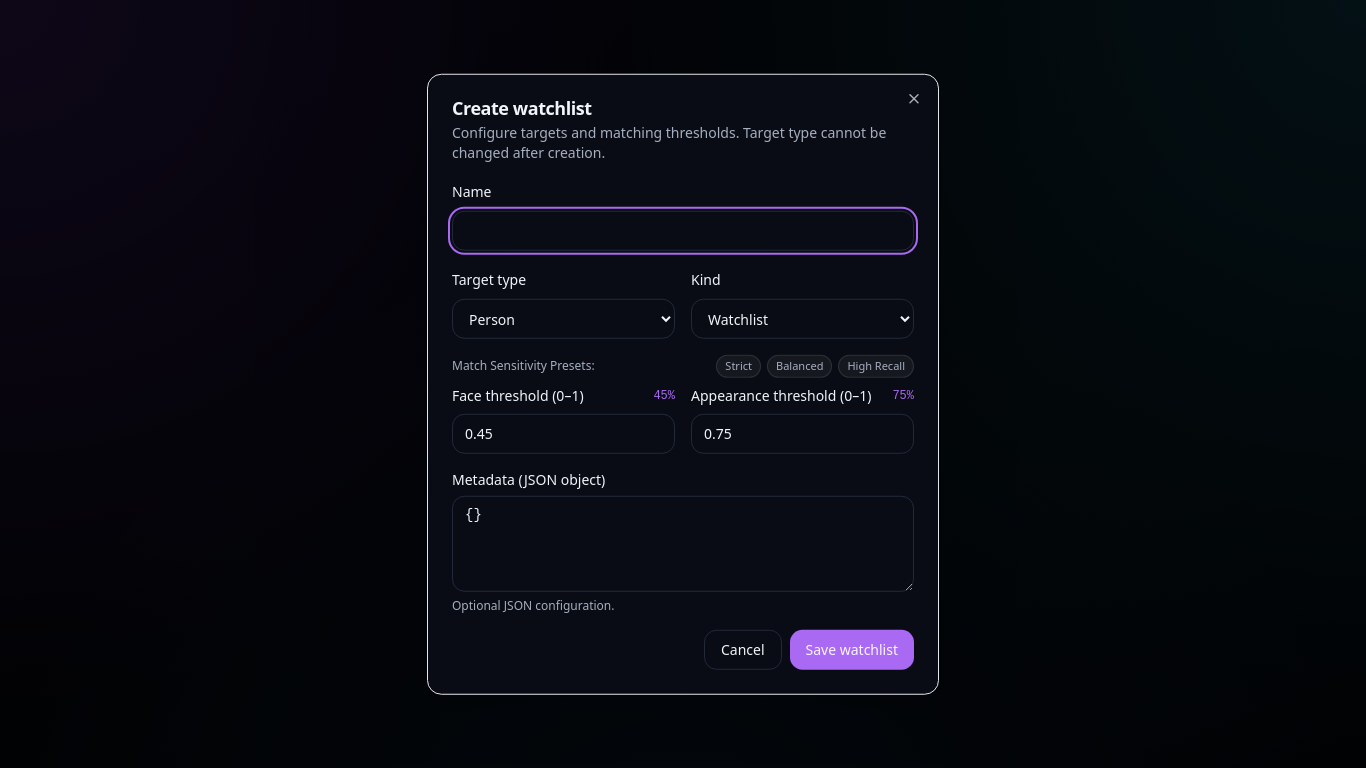
Test: watchlist form validation › rejects invalid Metadata (JSON object) without a write
Type "Staff" into the field labelled "Name" at point(683, 231), box [452,211,914,251]
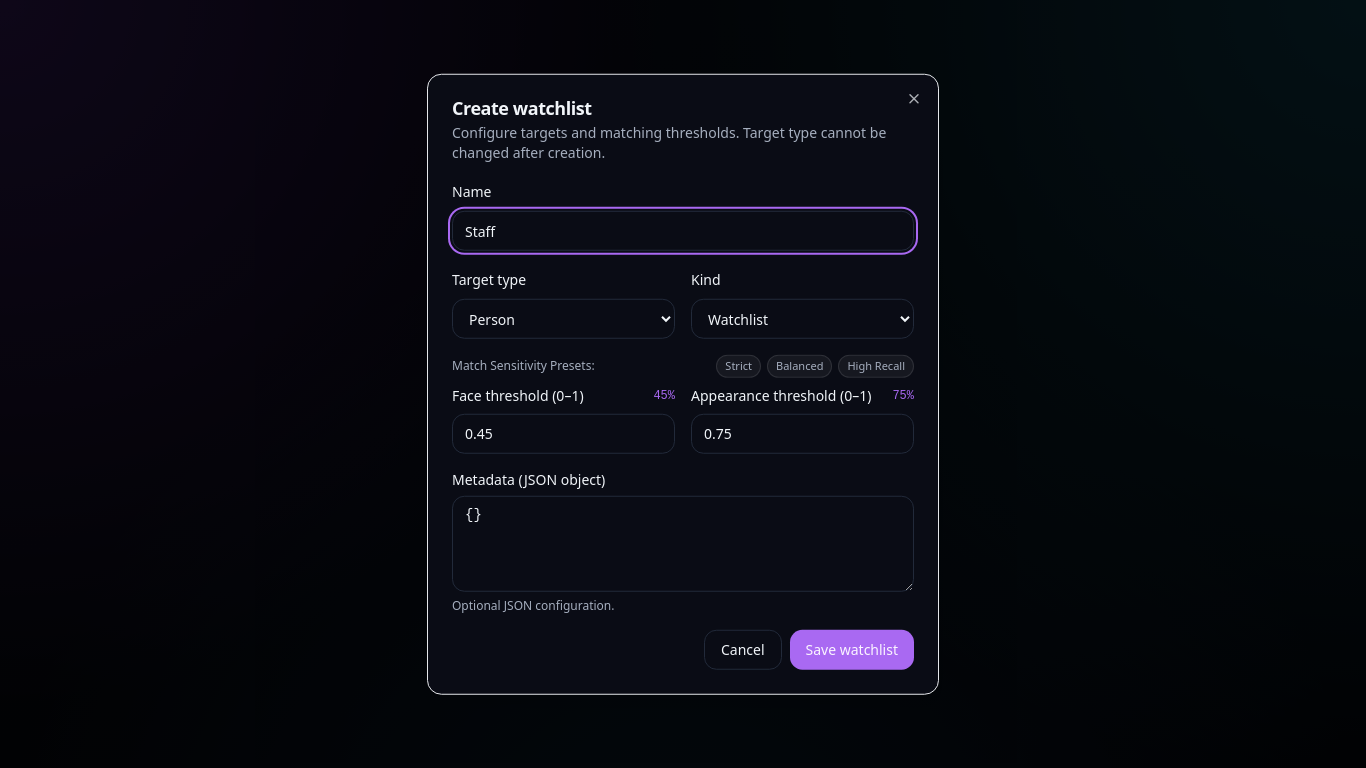
Replace the text in the text box labelled "Metadata (JSON object)" with "[]" at point(683, 543), box [452,495,914,591]
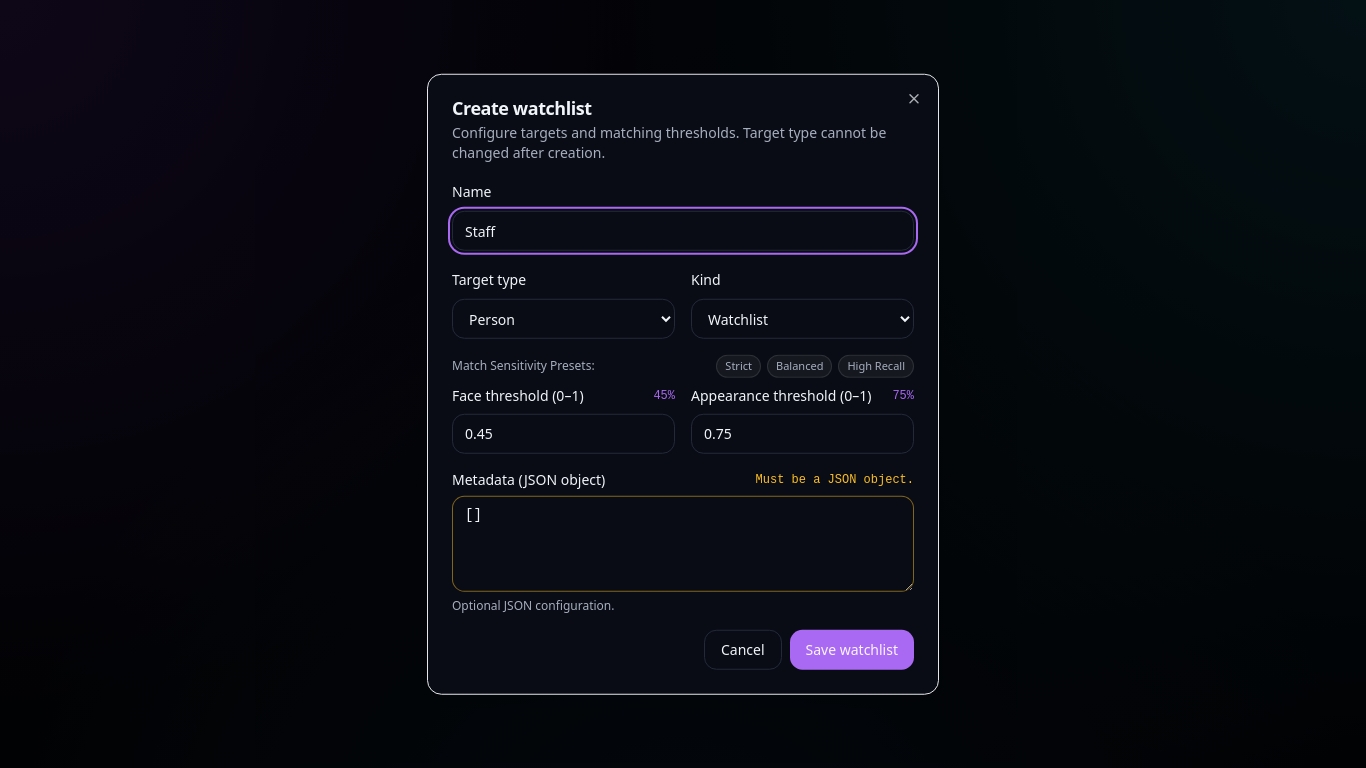
Submit the form named "Save watchlist", box [452,179,914,669]
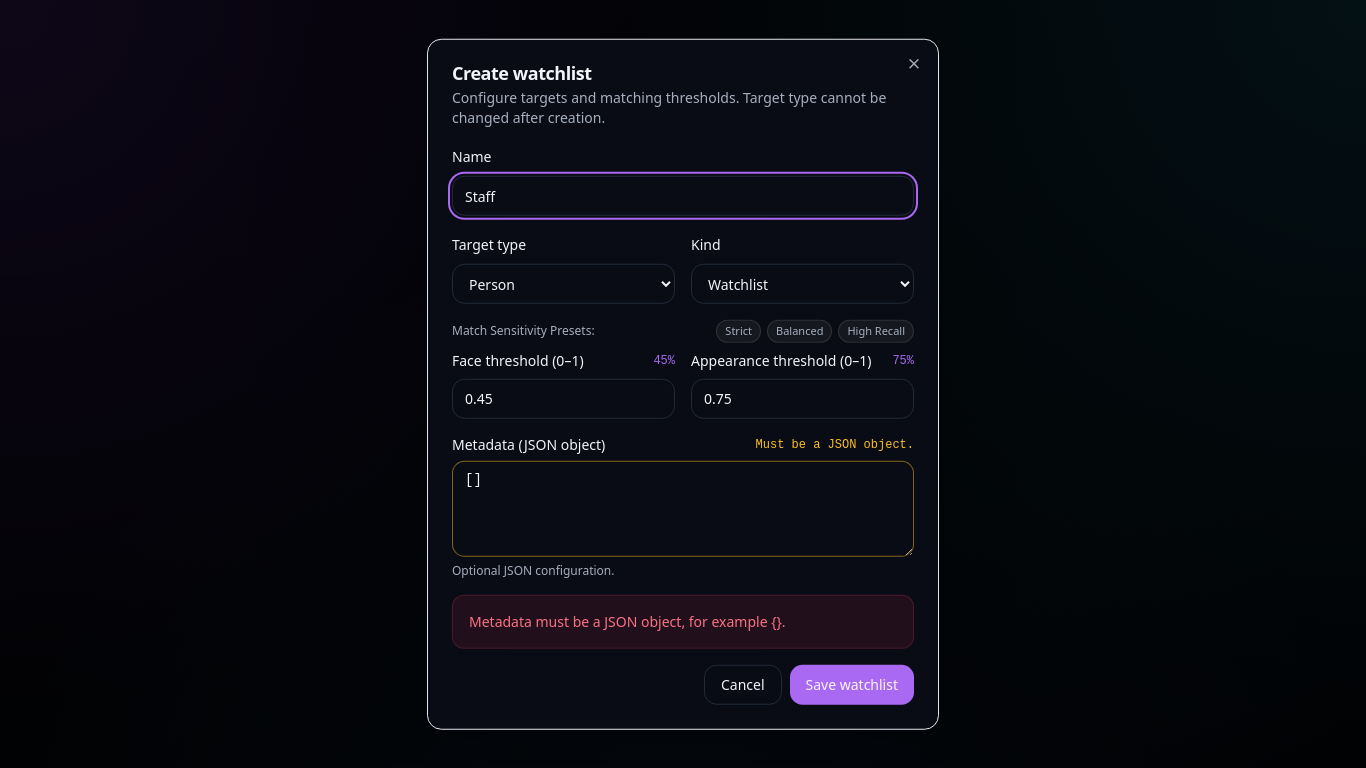
Check: the message "Metadata must be a JSON object, for example {}." is shown, box [452,594,914,648]
